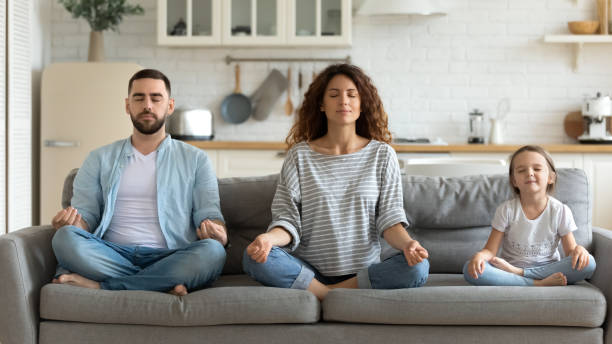without mask: (111, 74, 190, 155), (304, 57, 383, 138), (494, 132, 573, 213)
